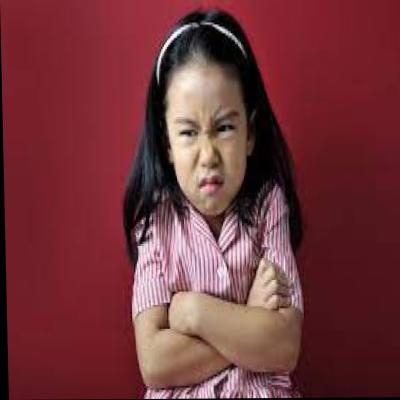angry: (159, 43, 253, 214)
